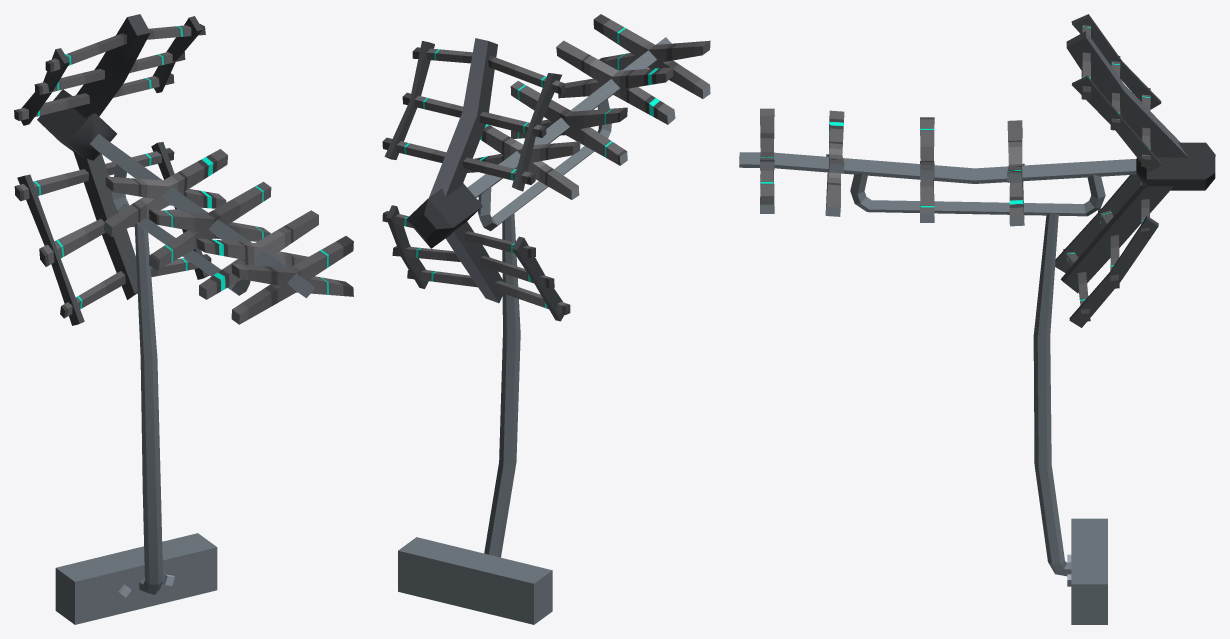
Rendered from SM_Prop_Antenna_04.fbx.
3 renders of one model, left to right at view 1: azimuth 30°, elevation 25°; view 2: azimuth 150°, elevation 25°; view 3: azimuth 270°, elevation 25°, orthographic. The views are drawn at different scales.
Visible parts, largest first — view 1: SM_Prop_Antenna_04; view 2: SM_Prop_Antenna_04; view 3: SM_Prop_Antenna_04.
Boxes of the visible parts, bbox=[...] form: SM_Prop_Antenna_04: bbox=[14, 14, 353, 624]; SM_Prop_Antenna_04: bbox=[382, 14, 710, 624]; SM_Prop_Antenna_04: bbox=[739, 14, 1215, 624].
Bounding box in the file's own units: 52.86 × 184 × 143.
